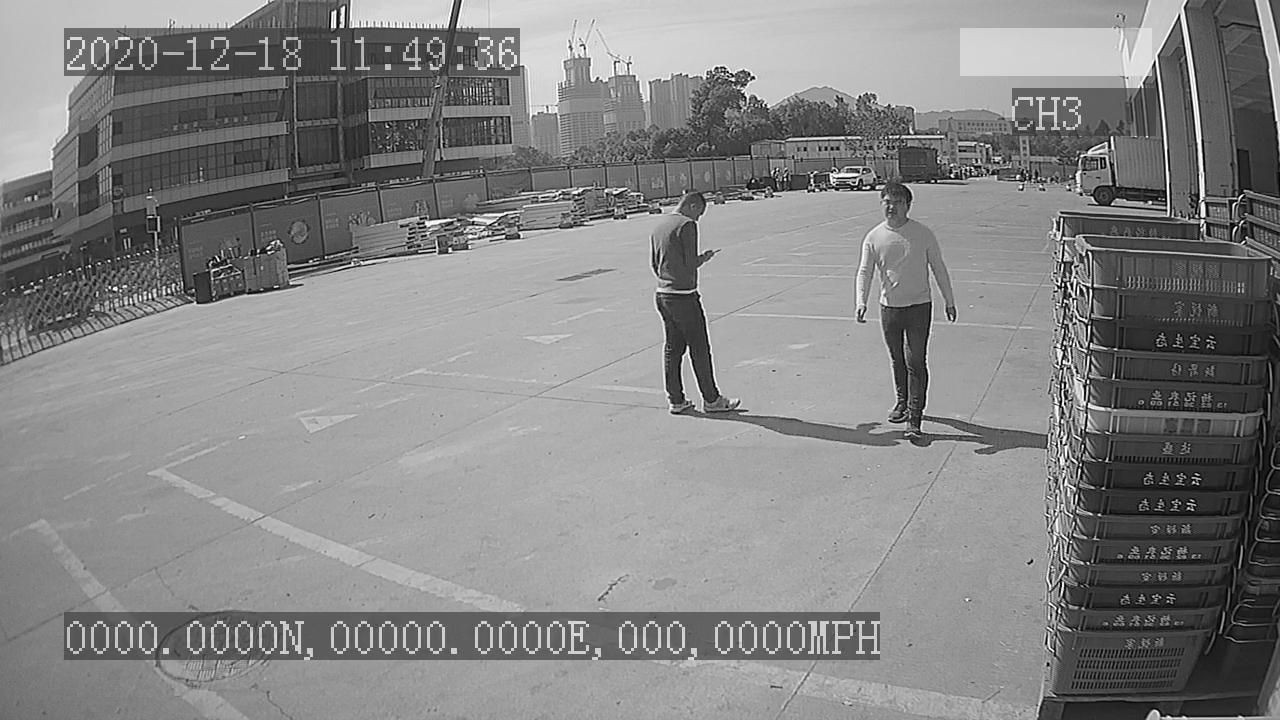person: (847, 179, 959, 444), (640, 190, 742, 420)
